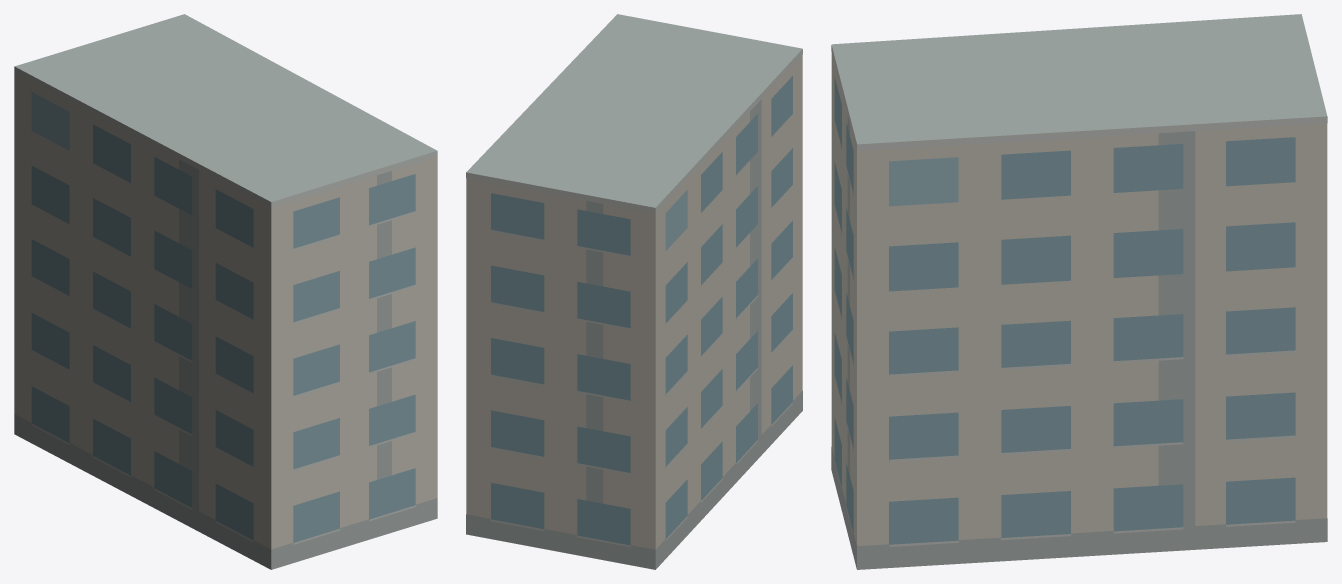
File: survey-upis-32563366.glb
The picture shows the model from 3 angles, left to right: view 1: azimuth 30°, elevation 25°; view 2: azimuth 150°, elevation 25°; view 3: azimuth 270°, elevation 25°; orthographic projection. The views are drawn at different scales.
Visible parts, largest first — view 1: survey-upis-32563366.tmp; view 2: survey-upis-32563366.tmp; view 3: survey-upis-32563366.tmp.
Part boxes in pixels (x1,y1,x2,y2): survey-upis-32563366.tmp: (14,14,437,569); survey-upis-32563366.tmp: (466,14,802,569); survey-upis-32563366.tmp: (831,14,1327,569).
Size of the model in its own units: 10.03 by 15.25 by 16.12.
